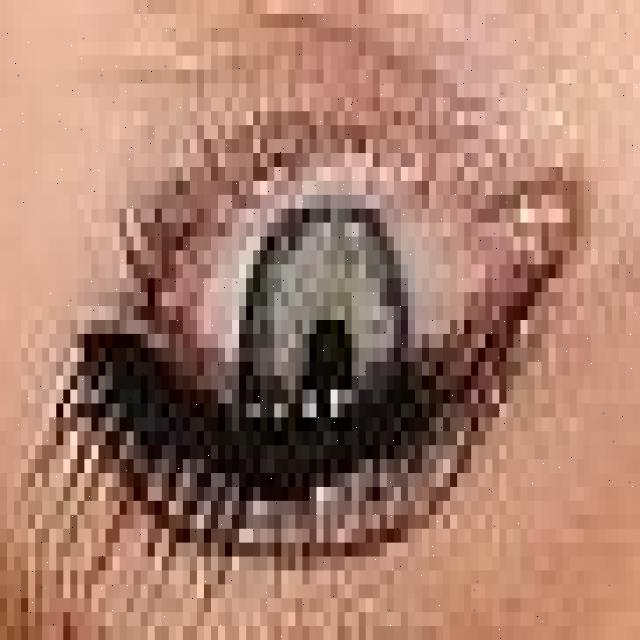Normal: (243, 195, 400, 518)
